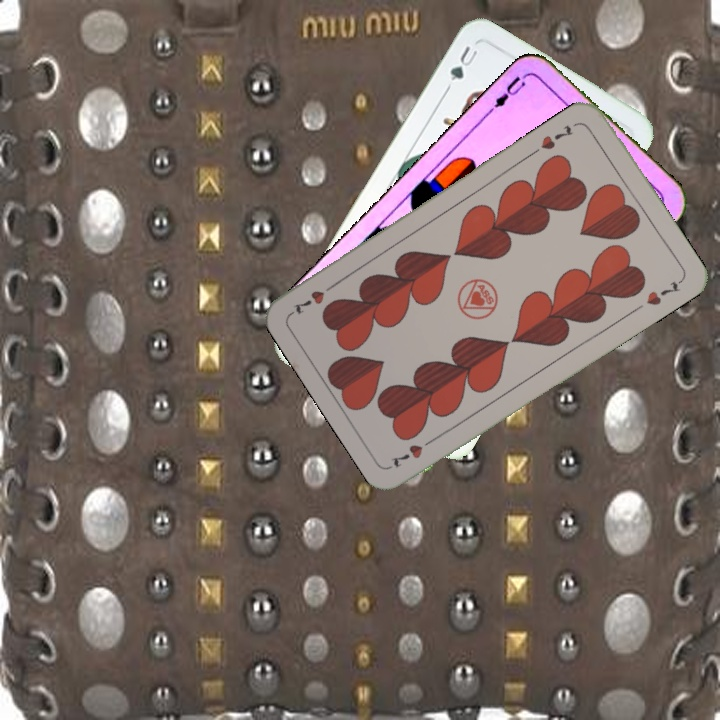EU: (485, 69, 534, 115)
GU: (445, 42, 481, 85)
H7: (386, 432, 439, 471), (536, 121, 576, 153)
